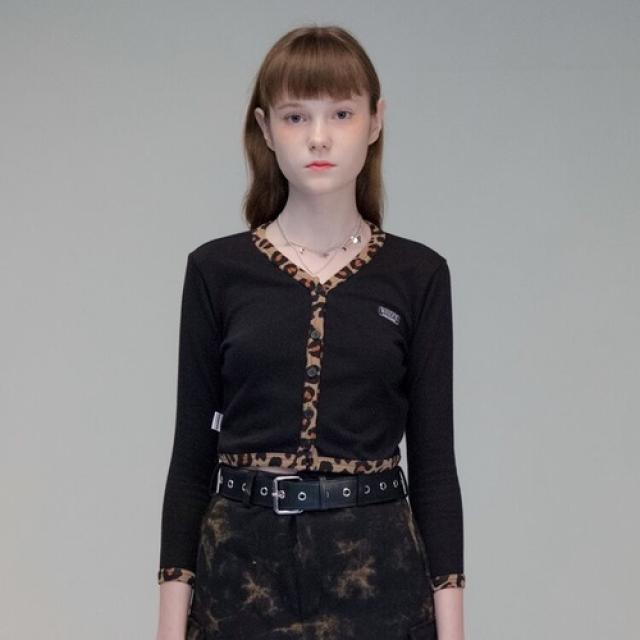Blouse_deep: (162, 219, 464, 588)
